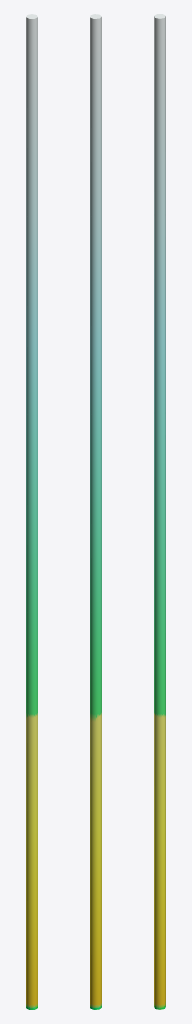
File: laser.FBX
3 views of the same model, side by side, from view 1: azimuth 90°, elevation 25°; view 2: azimuth 150°, elevation 25°; view 3: azimuth 270°, elevation 25° (orthographic).
Parts seen in each view (by area): view 1: Cylinder001; view 2: Cylinder001; view 3: Cylinder001.
Boxes of the visible parts, left/top/right/bottom form: Cylinder001: left=26, top=14, right=37, bottom=1009; Cylinder001: left=90, top=14, right=101, bottom=1009; Cylinder001: left=154, top=14, right=165, bottom=1009.
Bounding box in the file's own units: 0.4777 × 44.87 × 0.4899.
